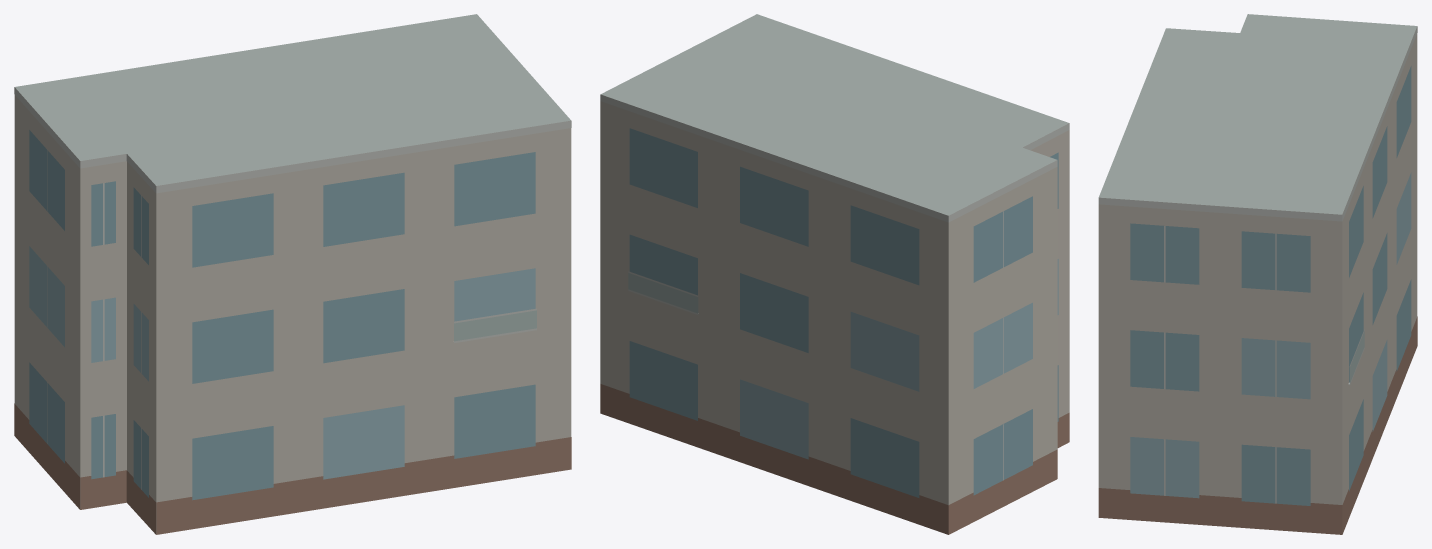
The model's file is survey-upis-32814522.glb.
3 views of the same model, side by side, from view 1: azimuth 30°, elevation 25°; view 2: azimuth 150°, elevation 25°; view 3: azimuth 270°, elevation 25° (orthographic). The views are drawn at different scales.
Visible parts, largest first — view 1: survey-upis-32814522.tmp; view 2: survey-upis-32814522.tmp; view 3: survey-upis-32814522.tmp.
Boxes of the visible parts, x1,y1,x2,y2 form: survey-upis-32814522.tmp: (14,14,571,534); survey-upis-32814522.tmp: (600,14,1069,534); survey-upis-32814522.tmp: (1098,14,1417,534).
Size of the model in its own units: 15.52 by 11.53 by 10.42.
